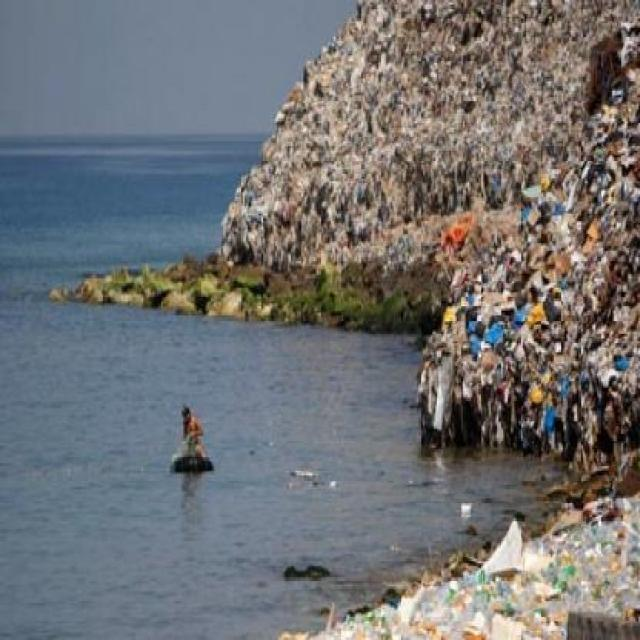garbage: (356, 0, 633, 251), (451, 256, 635, 437), (282, 95, 351, 244), (583, 446, 636, 634), (491, 535, 580, 632), (339, 596, 486, 635), (240, 182, 279, 247)
